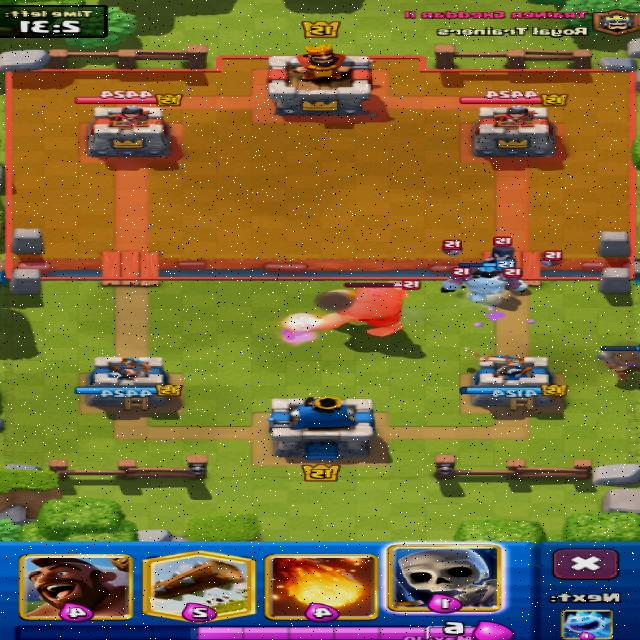Enemy-Bat: (500, 268, 528, 291), (451, 268, 470, 283), (544, 251, 563, 266), (444, 240, 462, 255)
Enemy-Giant: (285, 284, 407, 336)
Enemy-KingTower: (268, 44, 373, 115)
Enemy-NightWitch: (473, 105, 554, 157), (490, 247, 514, 260)
Enemy-PrincessTower: (473, 105, 555, 155), (90, 107, 170, 157)
Player-IceGolem: (442, 268, 526, 302)
Player-KingTower: (269, 396, 375, 460)
Player-Musketeer: (598, 350, 640, 380)
Player-PrincessTower: (462, 355, 561, 408), (77, 358, 168, 409)
